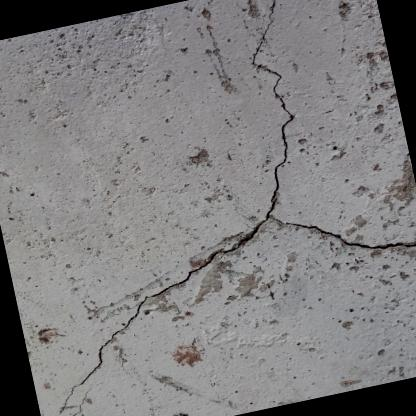crack: (59, 0, 416, 413), (69, 390, 87, 416)
